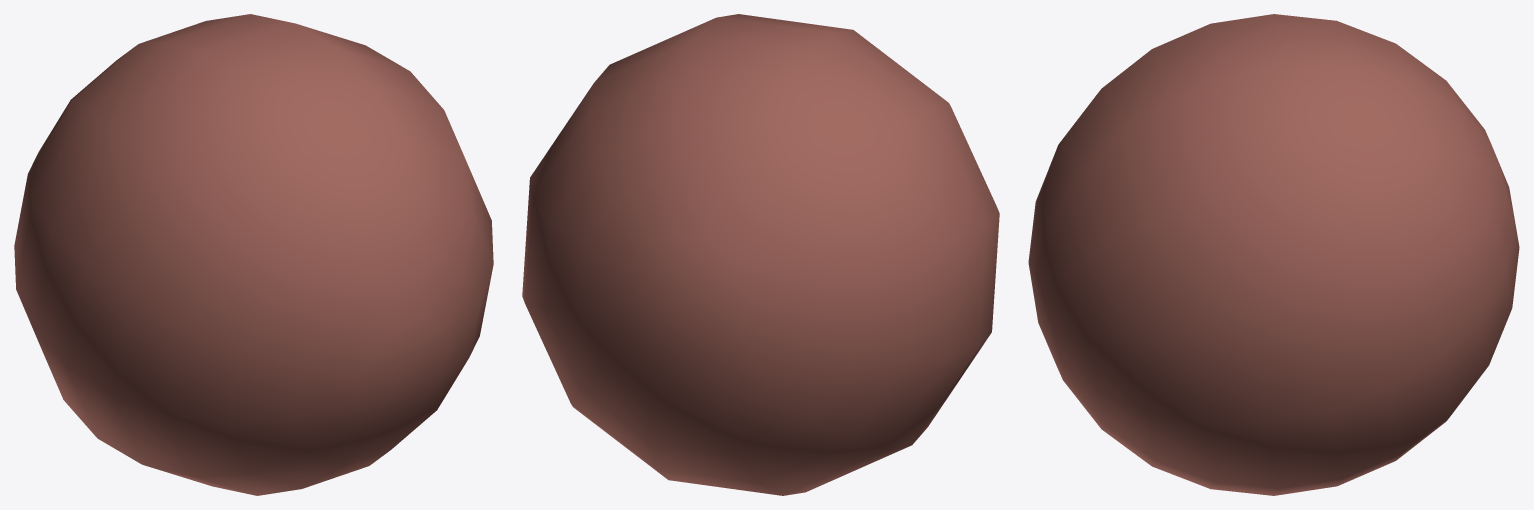
The model's file is mixamo_humanoid_joint_leftHandPinky3.fbx.
The picture shows the model from 3 angles, left to right: view 1: azimuth 30°, elevation 25°; view 2: azimuth 150°, elevation 25°; view 3: azimuth 270°, elevation 25°; orthographic projection.
Visible parts, largest first — view 1: joint_LeftHandPinky3; view 2: joint_LeftHandPinky3; view 3: joint_LeftHandPinky3.
Boxes of the visible parts, bbox=[...] form: joint_LeftHandPinky3: bbox=[14, 14, 493, 495]; joint_LeftHandPinky3: bbox=[522, 14, 999, 495]; joint_LeftHandPinky3: bbox=[1028, 14, 1519, 495].
Bounding box in the file's own units: 1.42 × 1.41 × 1.46.
